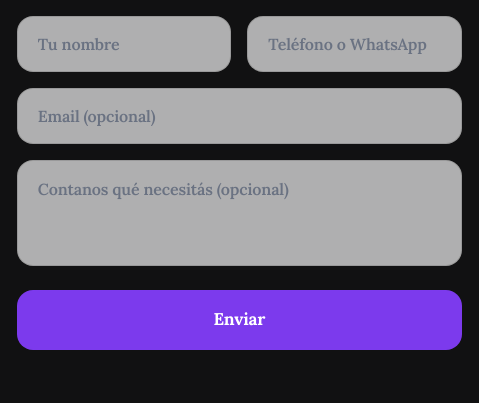
Test: LeadForm › shows what the visitor can fix, and keeps what they typed
Type "Ana" into the field labelled "Tu nombre" at [124, 44], box [17,16,231,72]
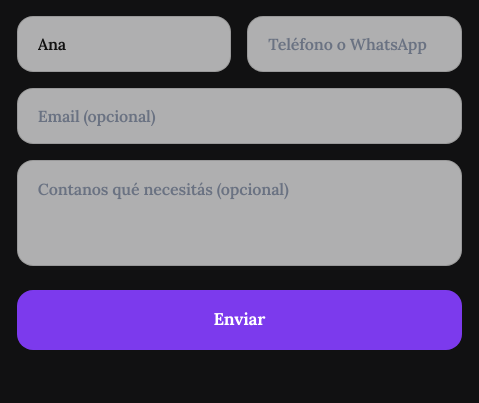
Type "no tengo" into the field labelled "Teléfono o WhatsApp" at [355, 44], box [247,16,462,72]
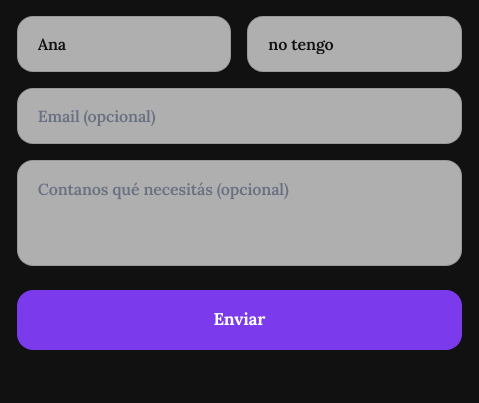
Click the button "Enviar" at [239, 320], box [17,290,462,350]
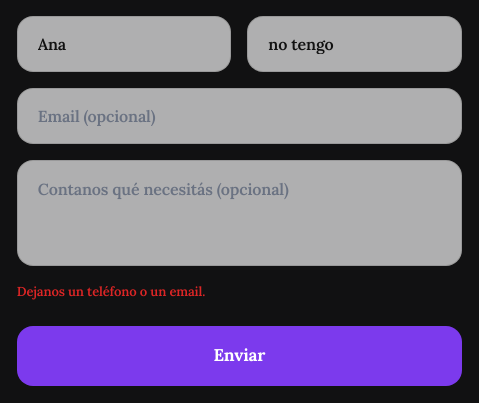
Expected: the text "Dejanos un teléfono o un email." is shown, [17,283,205,300]
